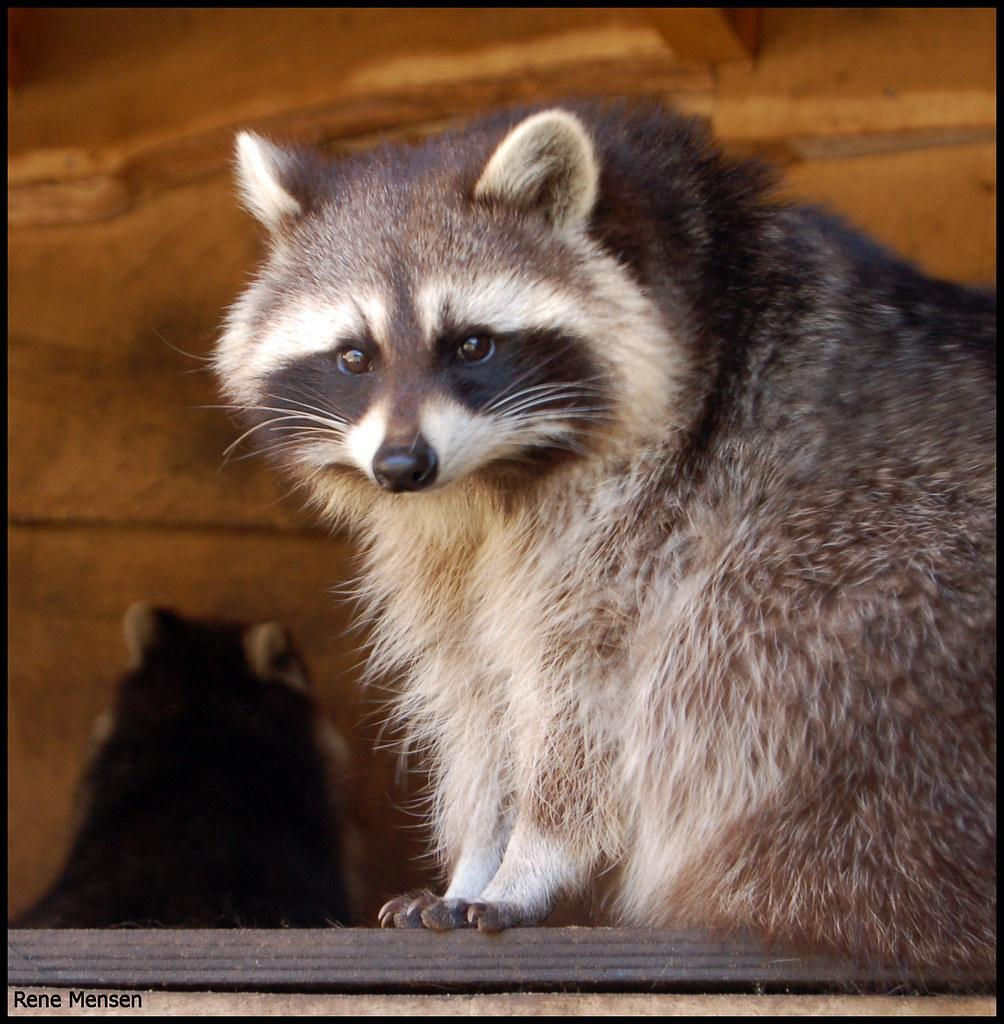raccoon: (208, 89, 1004, 960)
